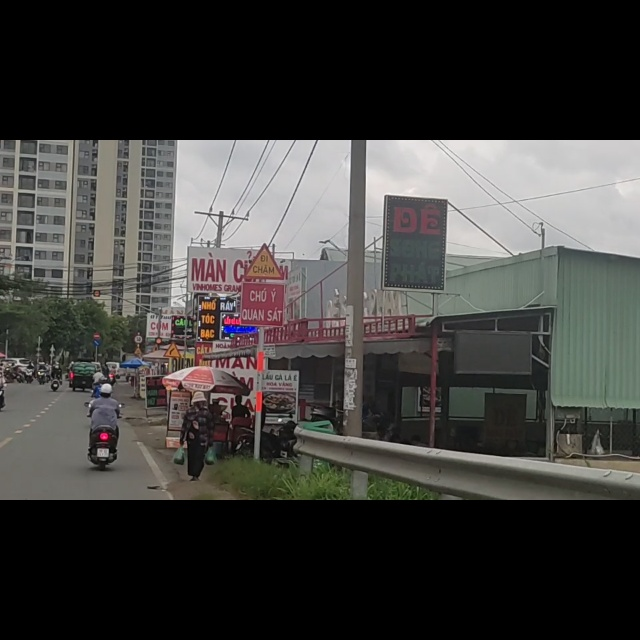bien_cam: (244, 181, 283, 251), (163, 358, 181, 388)
